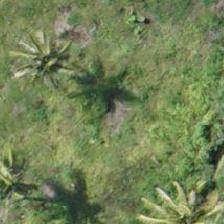coconut_tree: (5, 19, 95, 109), (0, 142, 50, 223)
